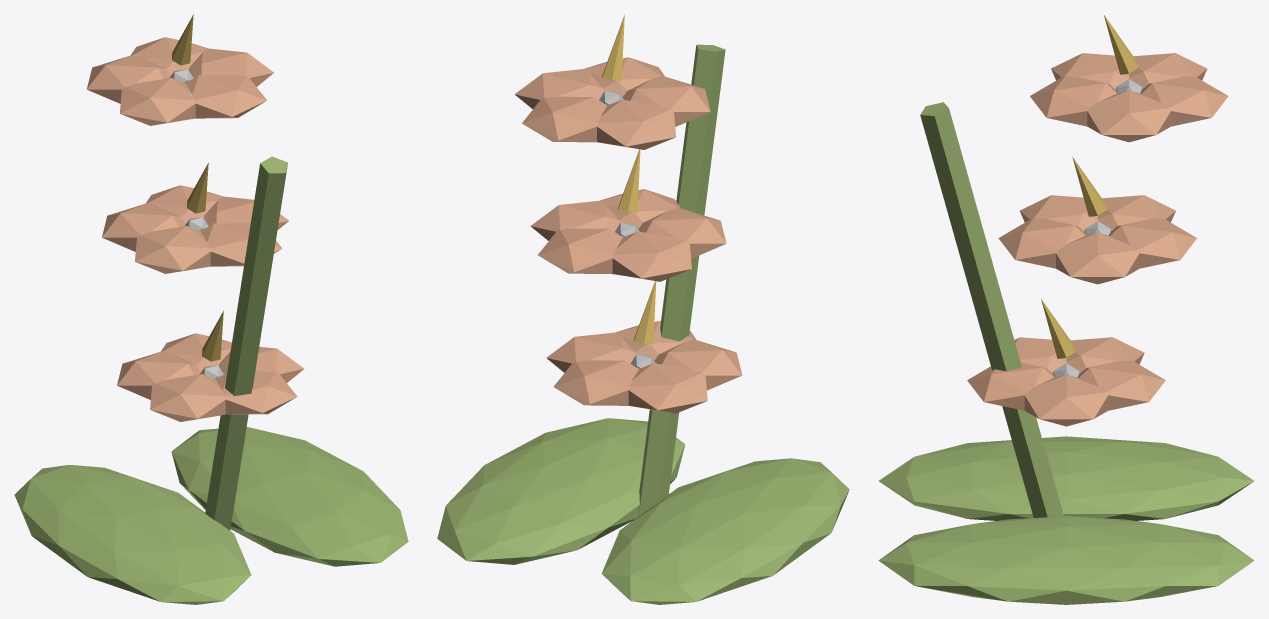
The model's file is dendrobium-anosmum.glb.
3 renders of one model, left to right at view 1: azimuth 30°, elevation 25°; view 2: azimuth 150°, elevation 25°; view 3: azimuth 270°, elevation 25°, orthographic. The views are drawn at different scales.
Parts seen in each view (by area): view 1: leaf-1, leaf1, stem, petal2 (×3), petal1 (×3), petal3 (×3), petal0 (×3), petal4 (×3), pistil (×3); view 2: leaf-1, leaf1, petal3 (×3), stem, petal4 (×3), petal2 (×3), petal0 (×3), petal1 (×3), pistil (×3); view 3: leaf1, leaf-1, stem, petal0 (×3), petal4 (×3), petal1 (×3), petal3 (×3), petal2 (×3), pistil (×3).
Part boxes in pixels (x1=…): leaf-1: x1=14, y1=465, x2=251, y2=604; leaf1: x1=171, y1=427, x2=408, y2=566; stem: x1=205, y1=156, x2=287, y2=530; petal2 (×3): x1=119, y1=78, x2=225, y2=421; petal1 (×3): x1=185, y1=75, x2=297, y2=414; petal3 (×3): x1=86, y1=55, x2=200, y2=399; petal0 (×3): x1=188, y1=48, x2=304, y2=382; petal4 (×3): x1=130, y1=37, x2=231, y2=371; pistil (×3): x1=172, y1=14, x2=223, y2=361; leaf-1: x1=601, y1=458, x2=849, y2=604; leaf1: x1=437, y1=418, x2=685, y2=564; petal3 (×3): x1=597, y1=99, x2=707, y2=413; stem: x1=638, y1=44, x2=725, y2=515; petal4 (×3): x1=522, y1=96, x2=638, y2=405; petal2 (×3): x1=622, y1=76, x2=742, y2=390; petal0 (×3): x1=514, y1=69, x2=635, y2=372; petal1 (×3): x1=584, y1=57, x2=696, y2=360; pistil (×3): x1=602, y1=15, x2=656, y2=344; leaf1: x1=878, y1=516, x2=1254, y2=604; leaf-1: x1=879, y1=436, x2=1253, y2=520; stem: x1=920, y1=102, x2=1063, y2=517; petal0 (×3): x1=1024, y1=90, x2=1170, y2=426; petal4 (×3): x1=1077, y1=76, x2=1228, y2=410; petal1 (×3): x1=967, y1=76, x2=1117, y2=410; petal3 (×3): x1=1066, y1=53, x2=1207, y2=373; petal2 (×3): x1=1014, y1=53, x2=1129, y2=373; pistil (×3): x1=1041, y1=14, x2=1138, y2=358.
Size of the model in its own units: 0.2327 by 0.399 by 0.24.
